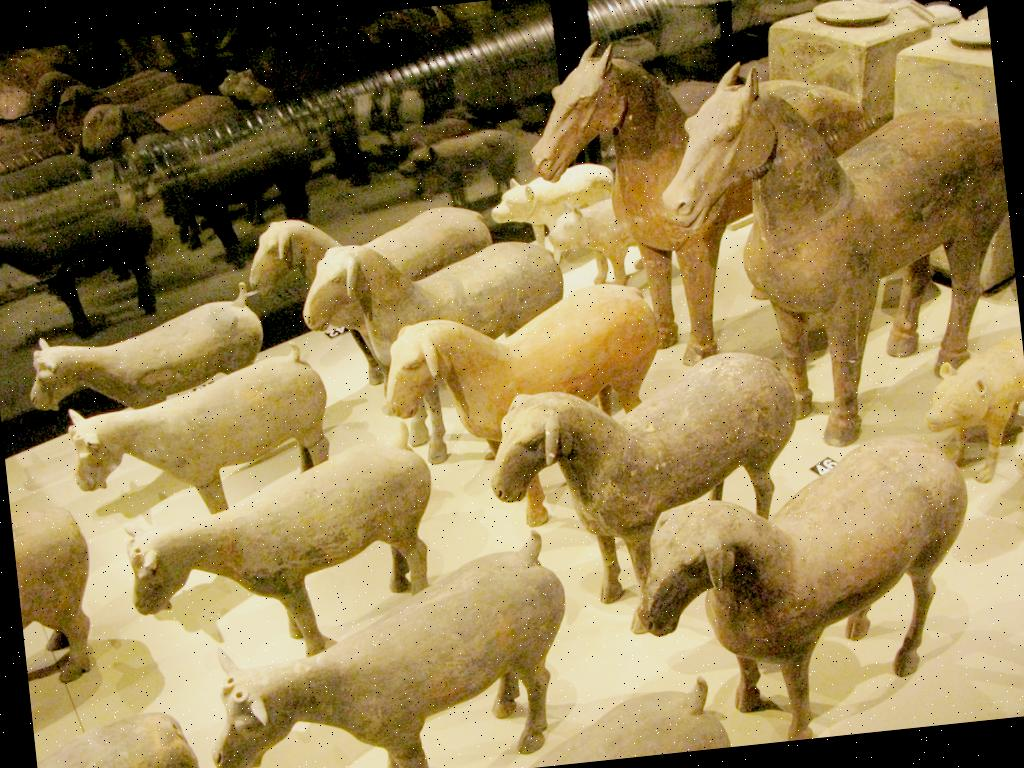Sheep: (0, 271, 736, 768), (102, 436, 470, 682)
